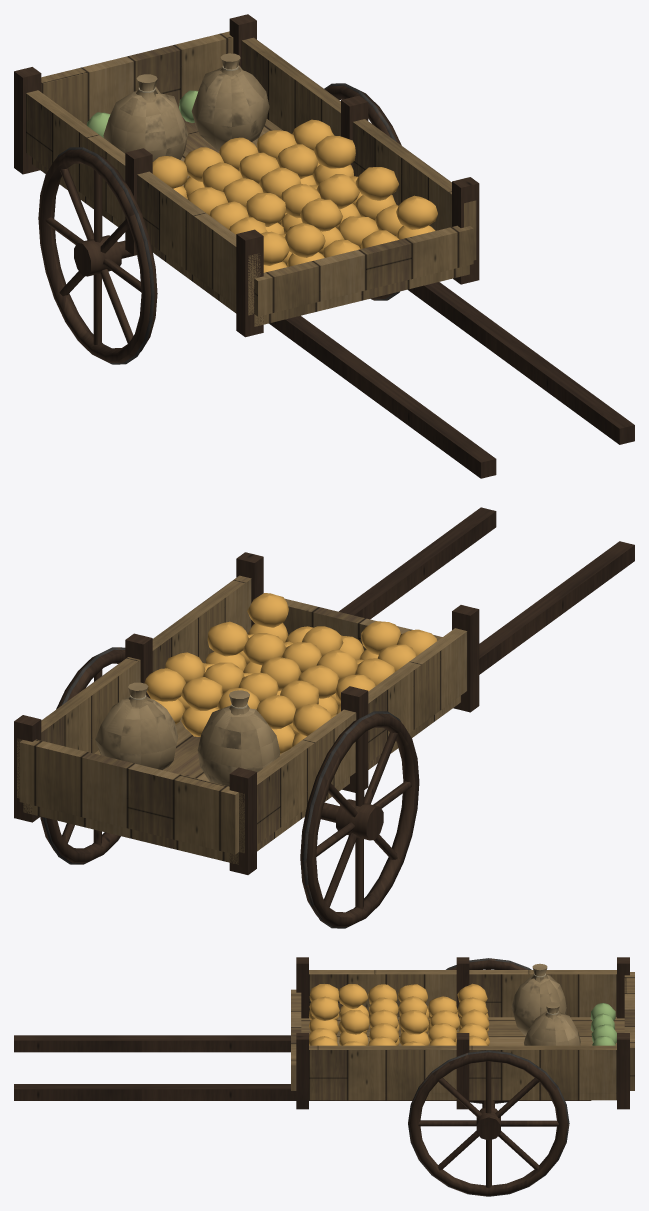
The model's file is cart.gltf.
3 views of the same model, one above another, from view 1: azimuth 30°, elevation 25°; view 2: azimuth 150°, elevation 25°; view 3: azimuth 270°, elevation 25° (orthographic). The views are drawn at different scales.
Visible parts, largest first — view 1: cart_mesh; view 2: cart_mesh; view 3: cart_mesh.
Boxes of the visible parts, left/top/right/bottom form: cart_mesh: left=14, top=14, right=634, bottom=478; cart_mesh: left=14, top=507, right=634, bottom=928; cart_mesh: left=14, top=957, right=634, bottom=1196.
Size of what is drawn, in the model's own units: 1.9 by 1.44 by 4.84.
7 materials, 4 textured.
